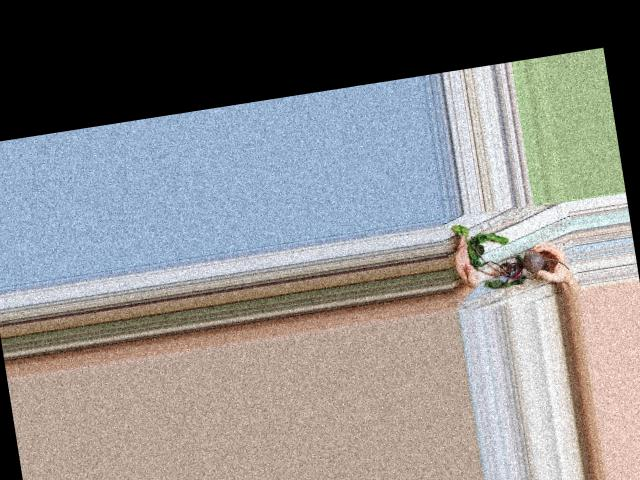beet: (451, 208, 570, 293)
